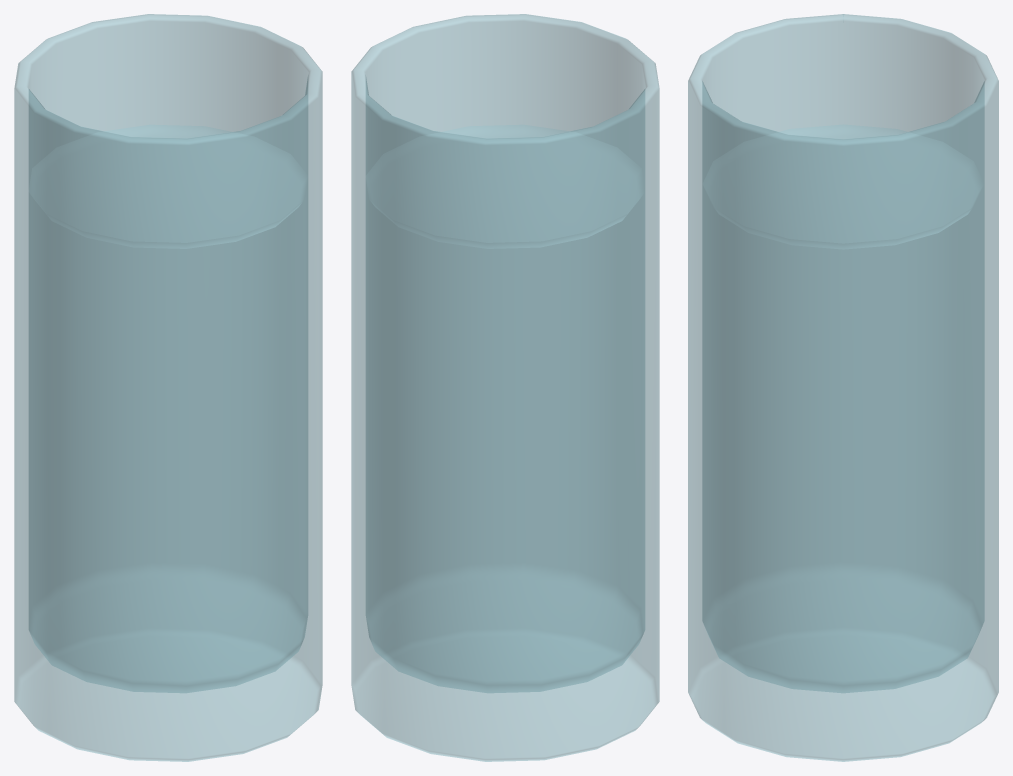
The model's file is consumables-drinks-glassofwater_v1.glb.
The picture shows the model from 3 angles, left to right: view 1: azimuth 30°, elevation 25°; view 2: azimuth 150°, elevation 25°; view 3: azimuth 270°, elevation 25°; orthographic projection.
Parts seen in each view (by area): view 1: GlassOfWater_v1; view 2: GlassOfWater_v1; view 3: GlassOfWater_v1.
Boxes of the visible parts, <box> form: GlassOfWater_v1: <box>14,14,322,761</box>; GlassOfWater_v1: <box>351,14,659,761</box>; GlassOfWater_v1: <box>688,14,998,761</box>.
Size of the model in its own units: 0.0158 by 0.0349 by 0.0158.
